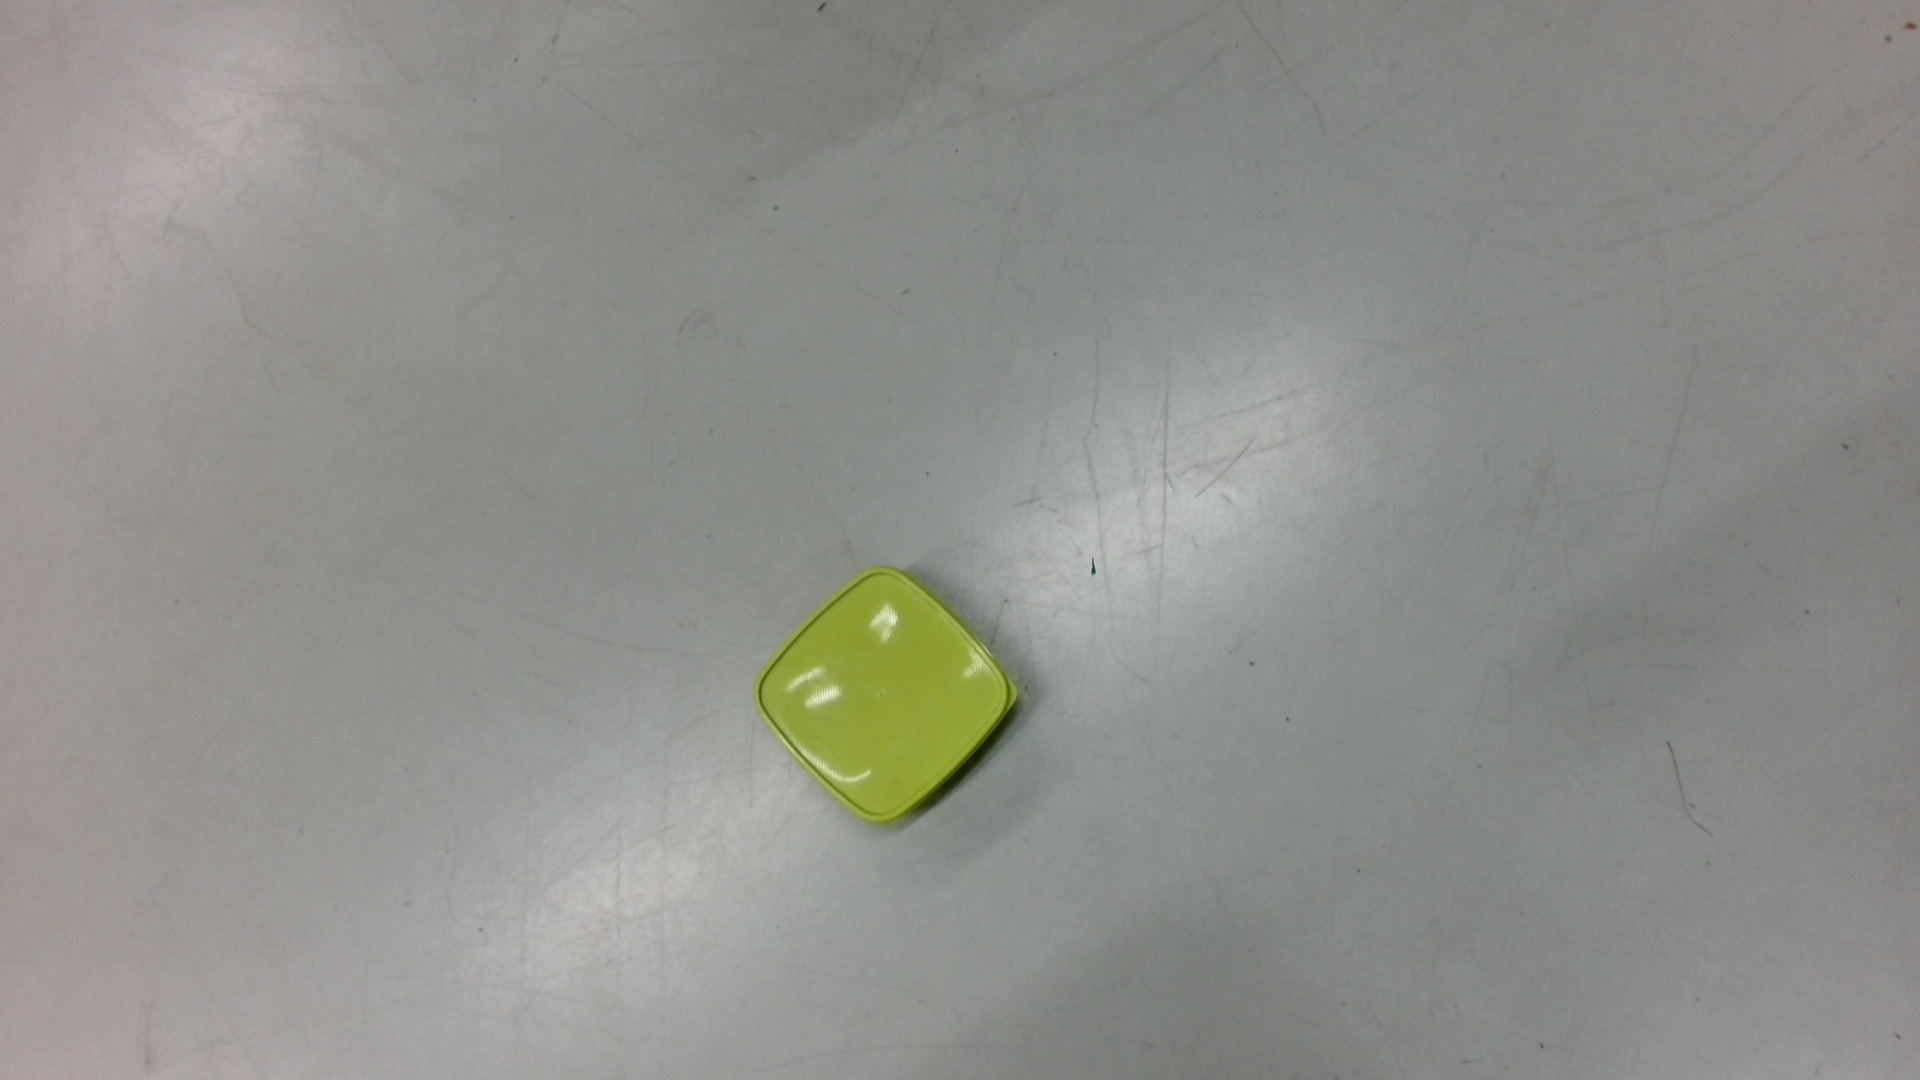Box: (752, 564, 1027, 832)
